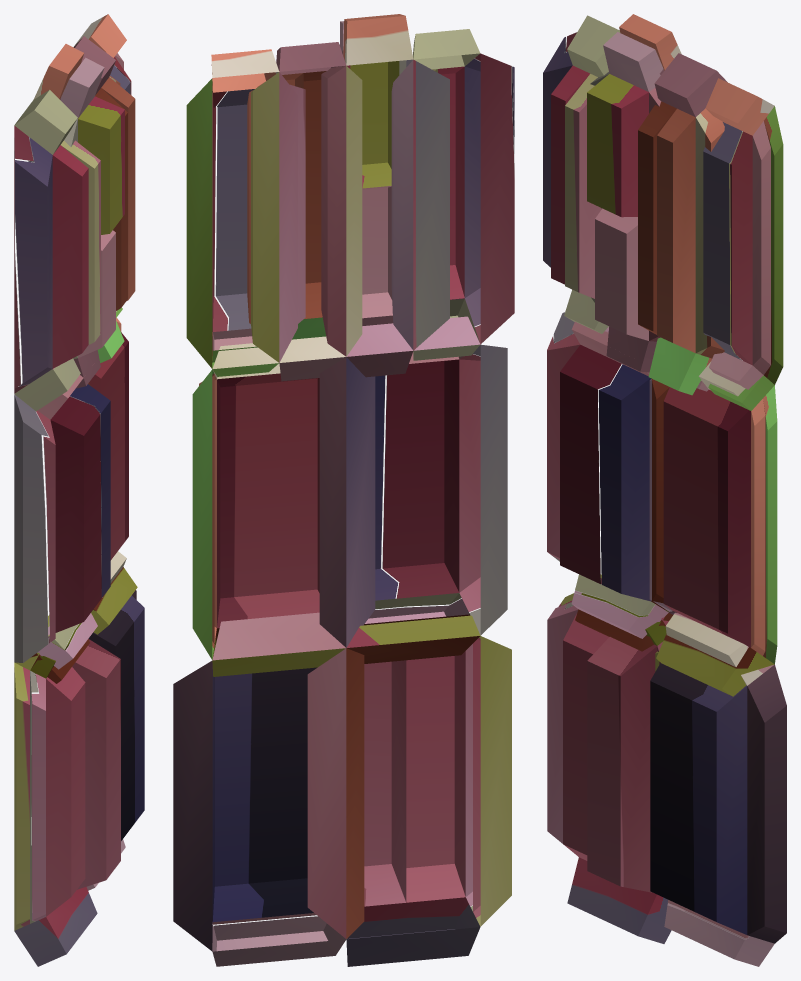
The model's file is Mineral2.Prop.2.fbx.
3 views of the same model, side by side, from view 1: azimuth 30°, elevation 25°; view 2: azimuth 150°, elevation 25°; view 3: azimuth 270°, elevation 25° (orthographic). The views are drawn at different scales.
Visible parts, largest first — view 1: Ruina2.Prop.2; view 2: Ruina2.Prop.2; view 3: Ruina2.Prop.2.
Boxes of the visible parts, bbox=[...] form: Ruina2.Prop.2: bbox=[14, 14, 144, 966]; Ruina2.Prop.2: bbox=[173, 14, 514, 966]; Ruina2.Prop.2: bbox=[543, 14, 786, 966].
Size of the model in its own units: 113 by 435 by 106.
